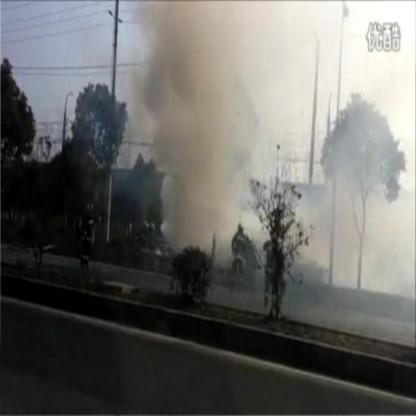smoke: (177, 57, 259, 177), (308, 201, 396, 283), (141, 3, 264, 56), (162, 178, 240, 250), (141, 59, 176, 170)
